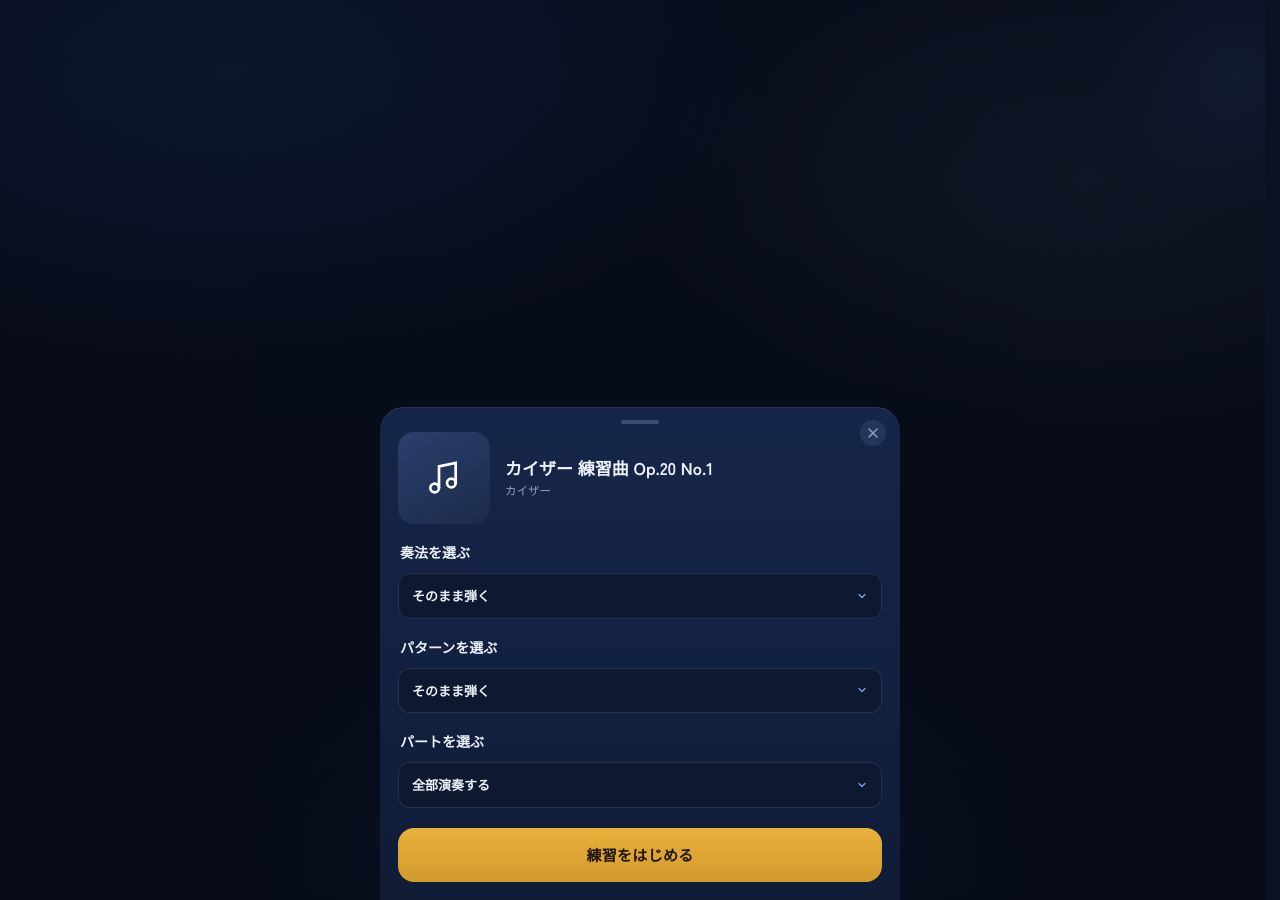
Test: 練習前シート (エチュード・奏法軸) › パターンを選ぶと奏法欄が消える
Select "16音符" in the 2nd dropdown: (640, 690) [398,668,882,713]
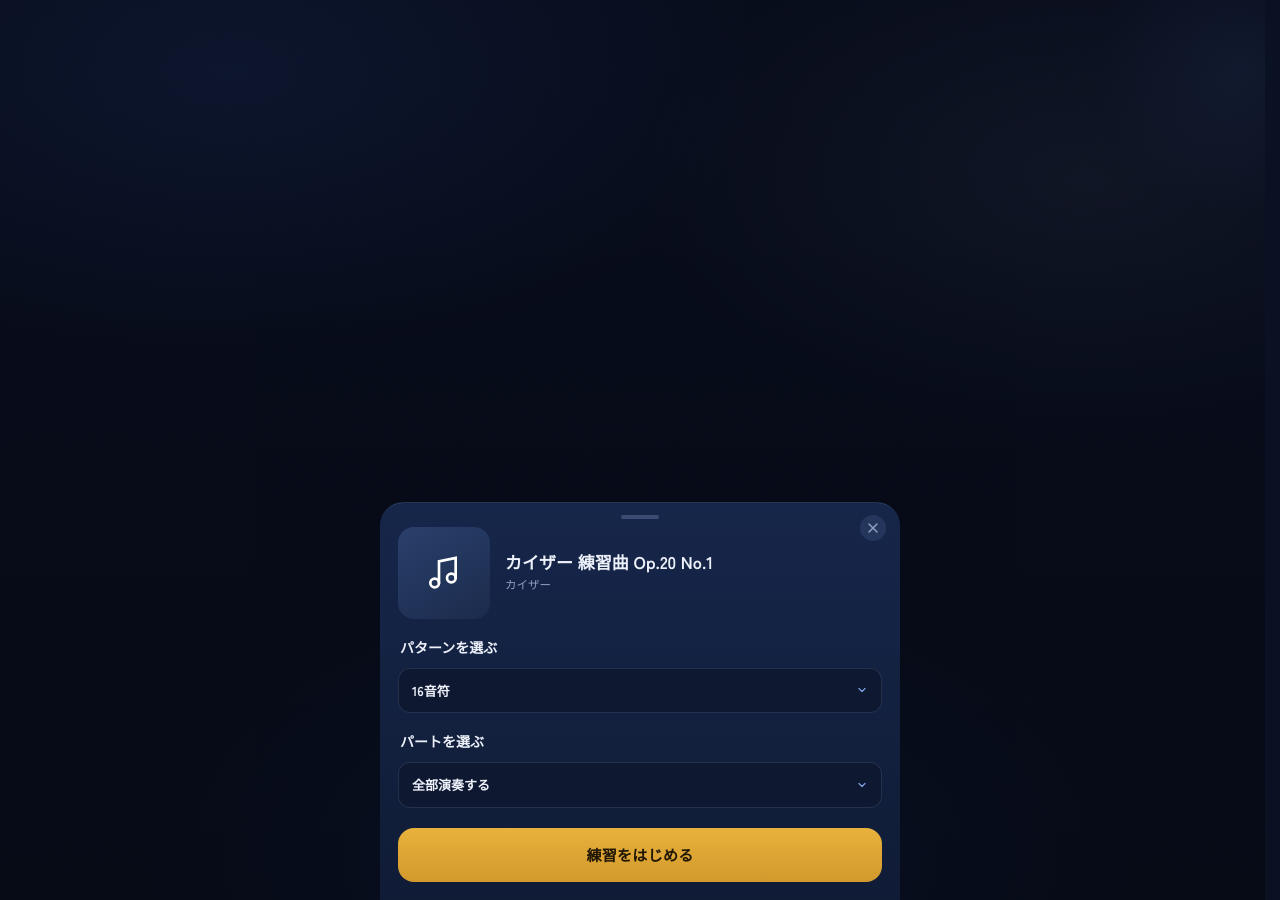
Expected: the text "パターンを選ぶ" is shown, [400,636,497,656]
Now the text "奏法を選ぶ" is gone
